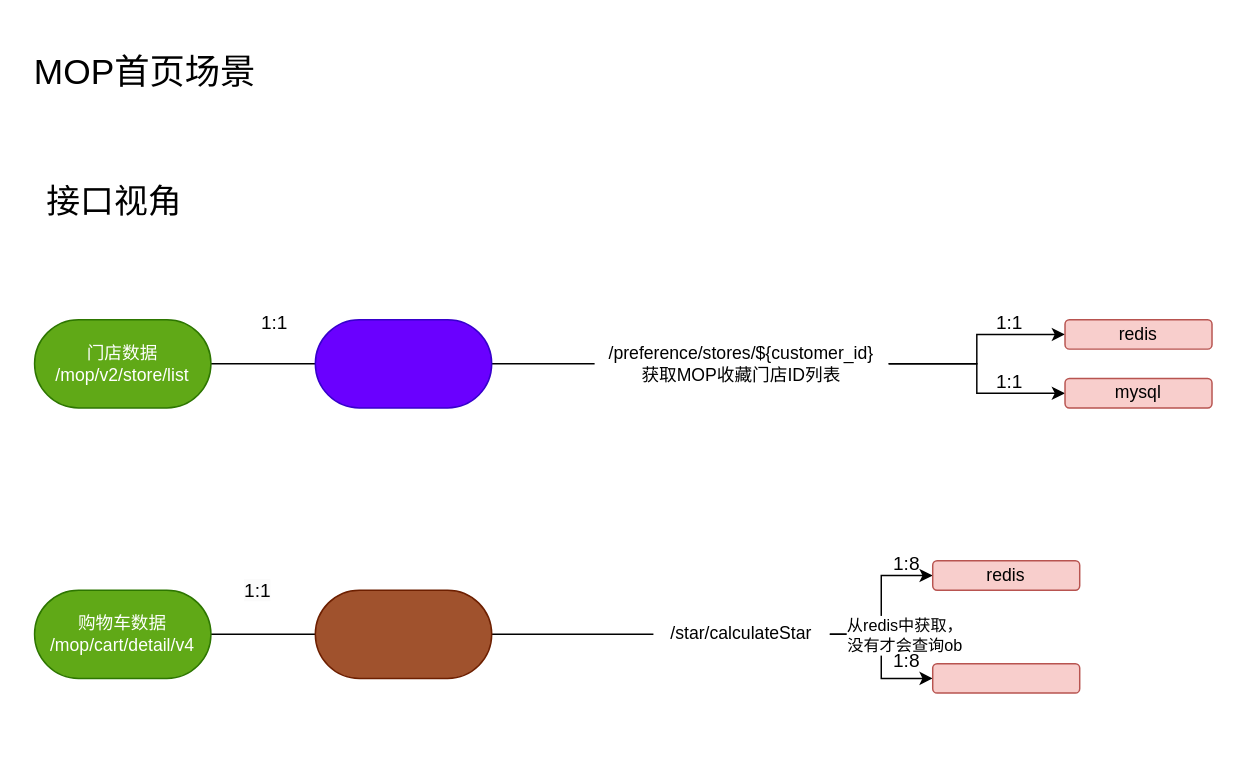
This 1238x757 diagram has some shape labels left out. The centre of each missing label's shape, as x and y in pixels:
"Customer Center" belongs at point (403, 363).
"ob" belongs at point (1005, 677).
"Star Engline" belongs at point (403, 633).
